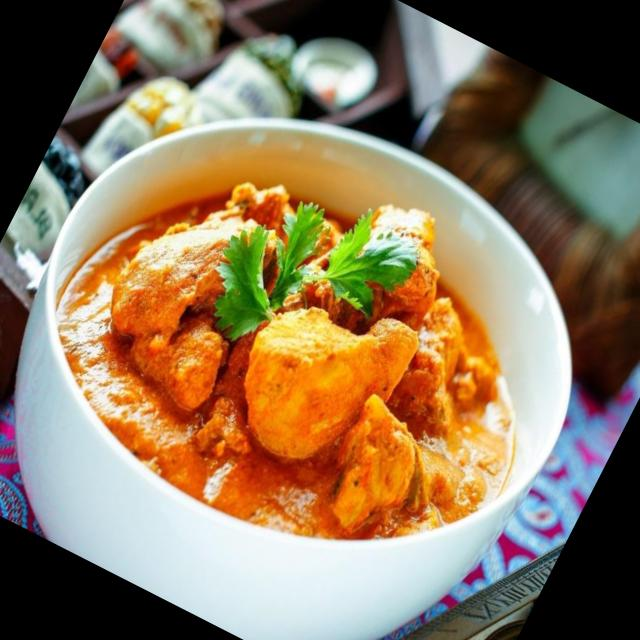chicken: (0, 69, 594, 614)
